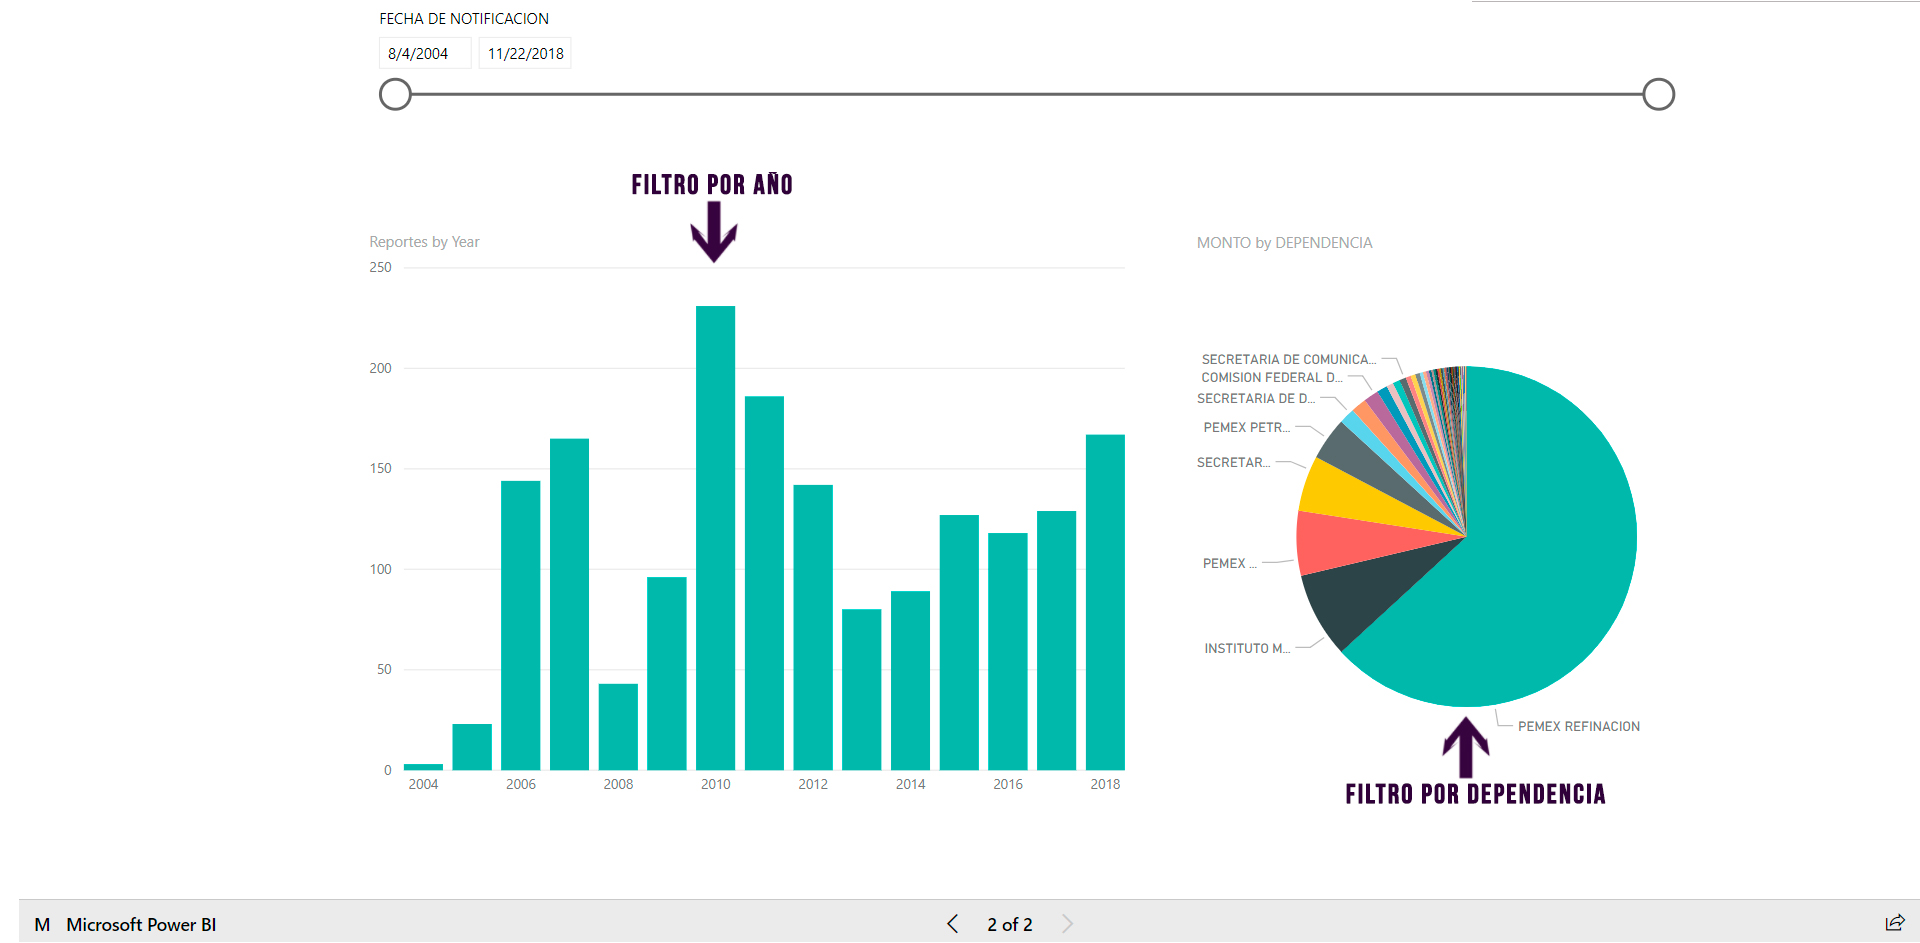

What the dashboard file says about the page in this screenshot:
{"tool":"powerbi","page":{"name":"Gráfica por Año","canvas":[1280,720],"ordinal":1},"visuals":[{"type":"columnChart","fields":{"Y":["Sum(Hoja1.Reportes)"],"Category":["Hoja1.FECHA DE NOTIFICACION.Variation.Date Hierarchy.Year","Hoja1.FECHA DE NOTIFICACION.Variation.Date Hierarchy.Quarter","Hoja1.FECHA DE NOTIFICACION.Variation.Date Hierarchy.Month","Hoja1.FECHA DE NOTIFICACION.Variation.Date Hierarchy.Day"]},"box":[120.8,184,616.3,461.7],"z":1},{"type":"slicer","fields":{"Values":["Hoja1.FECHA DE NOTIFICACION"]},"box":[120.8,0,1063.3,134.3],"z":3},{"type":"pieChart","fields":{"Y":["Sum(Hoja1.MONTO)"],"Category":["Hoja1.DEPENDENCIA"]},"box":[784.5,184.9,443.6,473.2],"z":3}]}

Visuals, with their boxes on the page's 1280x720 design canvas (x1, y1, x2, y2). These are canvas units, not pixel positions in the 1920x943 screenshot, which may show the page scaled, cropped or inside an application window:
columnChart - Sum(Hoja1.Reportes) x Hoja1.FECHA DE NOTIFICACION.Variation.Date Hierarchy.Year: 121,184,737,646
slicer - Hoja1.FECHA DE NOTIFICACION: 121,0,1184,134
pieChart - Sum(Hoja1.MONTO) x Hoja1.DEPENDENCIA: 784,185,1228,658
